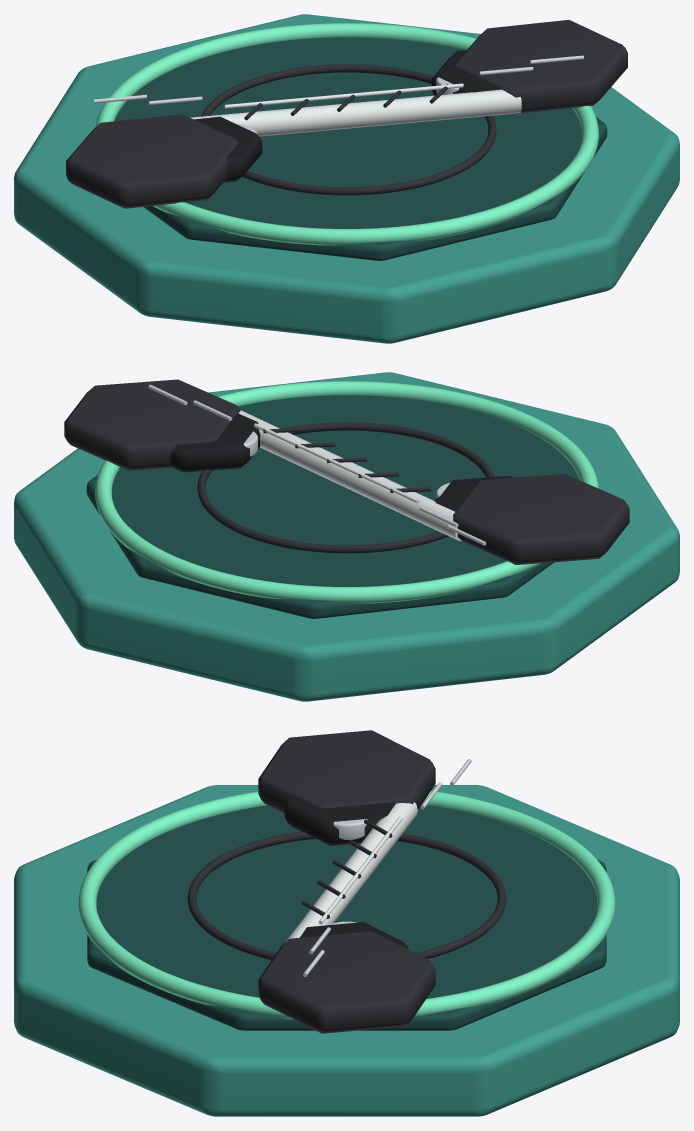
File: achievement_dumbbell.glb
The picture shows the model from 3 angles, top to bottom: view 1: azimuth 30°, elevation 25°; view 2: azimuth 150°, elevation 25°; view 3: azimuth 270°, elevation 25°; orthographic projection. The views are drawn at different scales.
Visible parts, largest first — view 1: octagonal iron award frame, deep inset training plate, green machined outer groove, dark hex dumbbell head.001, dark hex dumbbell head.003, knurled steel grip, inner machined groove, dark hex dumbbell head, dark hex dumbbell head.002, handle highlight; view 2: octagonal iron award frame, deep inset training plate, green machined outer groove, dark hex dumbbell head.001, dark hex dumbbell head.003, knurled steel grip, inner machined groove, dark hex dumbbell head.002, dark hex dumbbell head, handle highlight; view 3: octagonal iron award frame, deep inset training plate, green machined outer groove, dark hex dumbbell head.003, dark hex dumbbell head.001, inner machined groove, knurled steel grip, dark hex dumbbell head, dark hex dumbbell head.002, handle highlight.
Boxes of the visible parts, x1,y1,x2,y2 form: octagonal iron award frame: [14, 14, 679, 343]; deep inset training plate: [114, 37, 607, 260]; green machined outer groove: [95, 23, 598, 245]; dark hex dumbbell head.001: [66, 114, 238, 208]; dark hex dumbbell head.003: [455, 20, 627, 114]; knurled steel grip: [190, 89, 521, 136]; inner machined groove: [200, 64, 496, 195]; dark hex dumbbell head: [194, 116, 262, 182]; dark hex dumbbell head.002: [431, 50, 501, 95]; handle highlight: [224, 83, 463, 108]; octagonal iron award frame: [14, 372, 679, 701]; deep inset training plate: [86, 395, 579, 618]; green machined outer groove: [95, 381, 598, 603]; dark hex dumbbell head.001: [453, 474, 629, 564]; dark hex dumbbell head.003: [64, 379, 240, 470]; knurled steel grip: [239, 410, 461, 541]; inner machined groove: [197, 422, 494, 553]; dark hex dumbbell head.002: [170, 413, 260, 472]; dark hex dumbbell head: [435, 476, 513, 511]; handle highlight: [254, 423, 419, 503]; octagonal iron award frame: [14, 785, 679, 1116]; deep inset training plate: [87, 805, 606, 1030]; green machined outer groove: [78, 790, 615, 1019]; dark hex dumbbell head.003: [258, 931, 435, 1033]; dark hex dumbbell head.001: [258, 730, 435, 813]; inner machined groove: [187, 831, 506, 960]; knurled steel grip: [285, 802, 417, 942]; dark hex dumbbell head: [284, 795, 395, 845]; dark hex dumbbell head.002: [300, 922, 408, 949]; handle highlight: [318, 816, 402, 924].
Bounding box in the file's own units: 1.85 × 0.3668 × 1.85.
